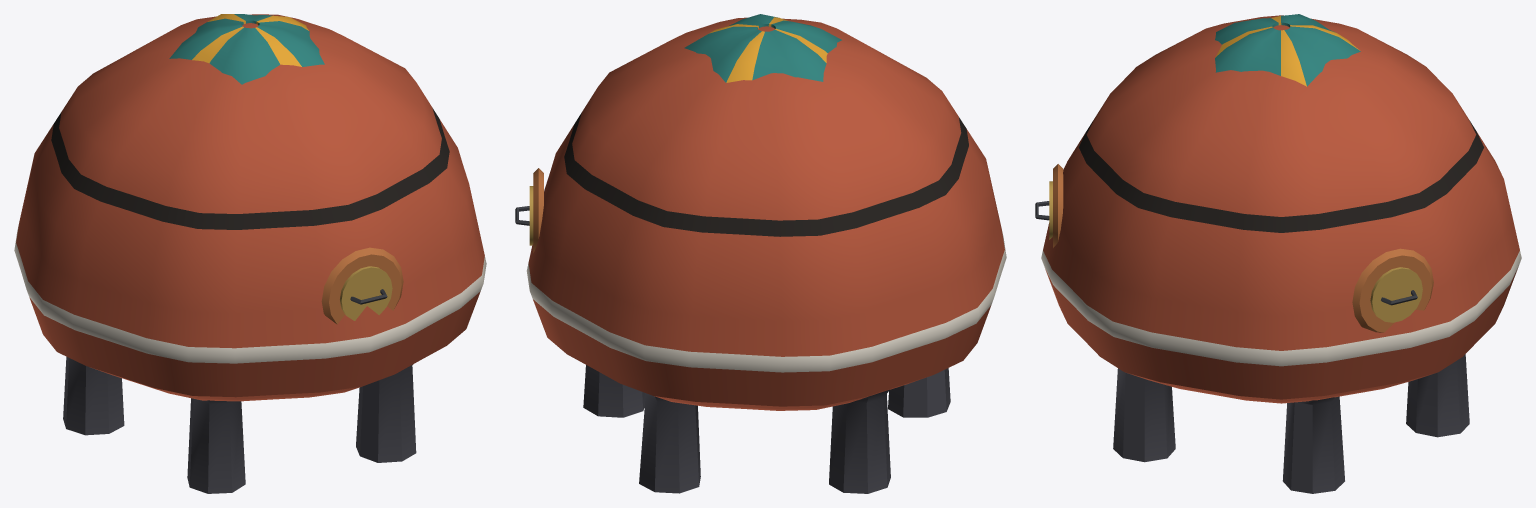
The model's file is deco_seed_silo_squat.fbx.
The picture shows the model from 3 angles, left to right: view 1: azimuth 30°, elevation 25°; view 2: azimuth 150°, elevation 25°; view 3: azimuth 270°, elevation 25°; orthographic projection. The views are drawn at different scales.
Parts seen in each view (by area): view 1: SeedSilo_Squat_Dome, SeedSilo_Squat_Stilts, SeedSilo_Squat_Cover, SeedSilo_Squat_Hatch1; view 2: SeedSilo_Squat_Dome, SeedSilo_Squat_Stilts, SeedSilo_Squat_Cover, SeedSilo_Squat_Hatch2; view 3: SeedSilo_Squat_Dome, SeedSilo_Squat_Stilts, SeedSilo_Squat_Cover, SeedSilo_Squat_Hatch2, SeedSilo_Squat_Hatch1.
Boxes of the visible parts, x1,y1,x2,y2 form: SeedSilo_Squat_Dome: (14,14,486,401); SeedSilo_Squat_Stilts: (63,356,416,493); SeedSilo_Squat_Cover: (169,14,324,84); SeedSilo_Squat_Hatch1: (321,247,403,324); SeedSilo_Squat_Dome: (526,17,1006,410); SeedSilo_Squat_Stilts: (583,365,950,493); SeedSilo_Squat_Cover: (684,14,841,82); SeedSilo_Squat_Hatch2: (515,168,543,252); SeedSilo_Squat_Dome: (1041,15,1521,403); SeedSilo_Squat_Stilts: (1113,354,1469,493); SeedSilo_Squat_Cover: (1215,14,1360,86); SeedSilo_Squat_Hatch2: (1352,248,1433,332); SeedSilo_Squat_Hatch1: (1035,164,1063,247).
Size of the model in its own units: 275 by 247 by 279.
